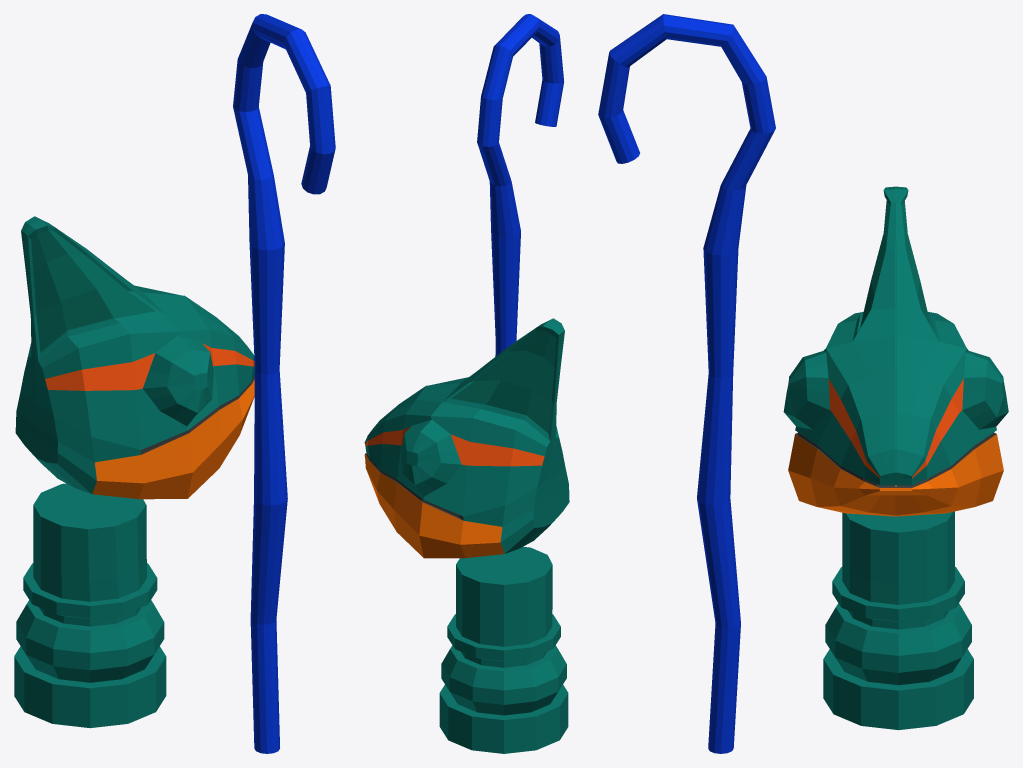
File: BishopChamaleon.fbx
3 renders of one model, left to right at view 1: azimuth 30°, elevation 25°; view 2: azimuth 150°, elevation 25°; view 3: azimuth 270°, elevation 25°, orthographic. The views are drawn at different scales.
Parts seen in each view (by area): view 1: Cube; view 2: Cube; view 3: Cube.
Boxes of the visible parts, x1,y1,x2,y2 form: Cube: (14,14,335,753); Cube: (364,14,569,753); Cube: (598,14,1008,753).
Size of the model in its own units: 52.36 by 165 by 83.51.
2 materials, 1 textured.
